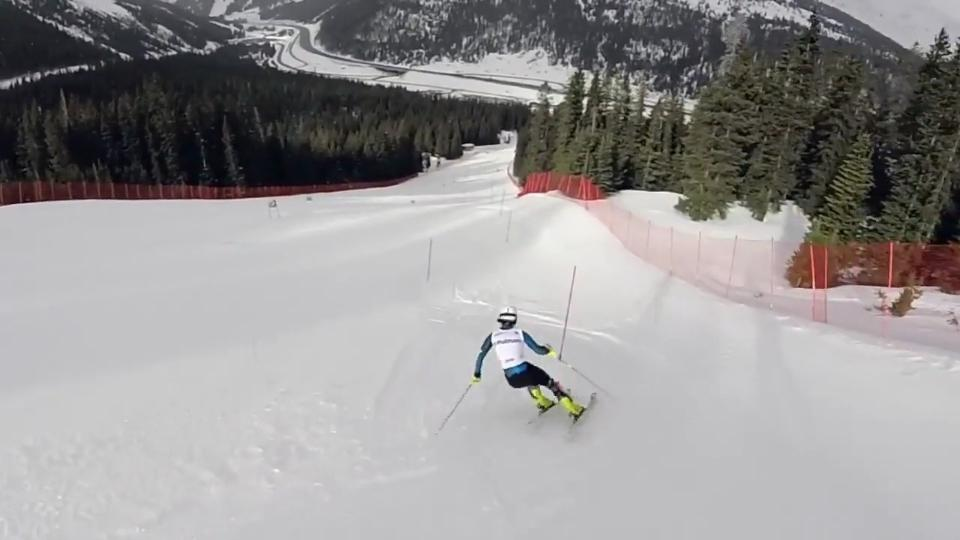gate: (542, 256, 588, 367)
